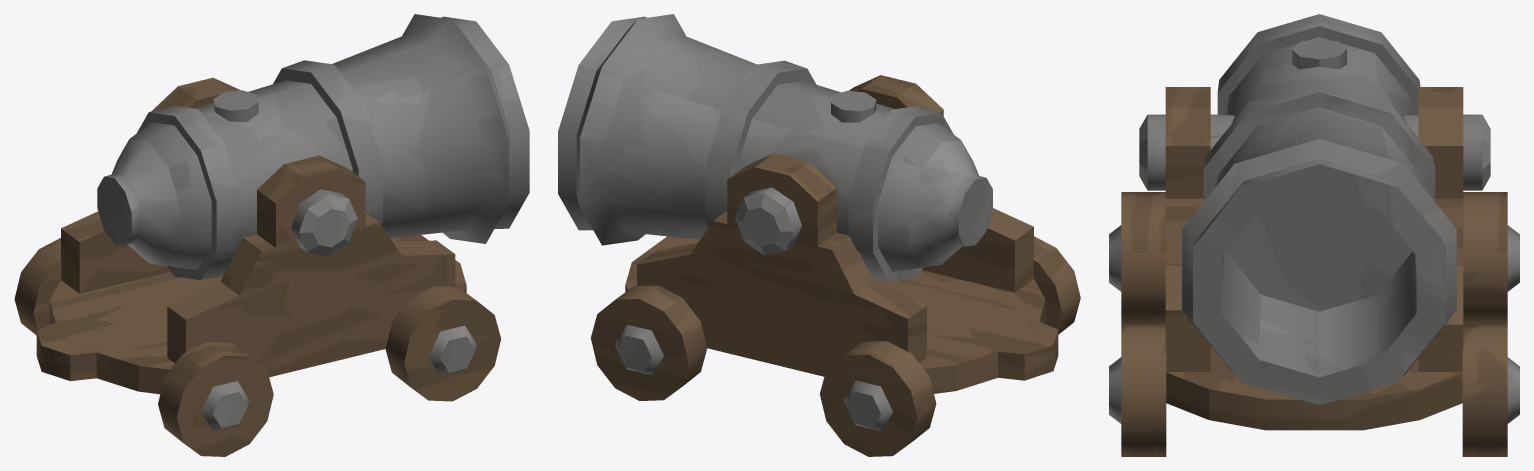
File: MESH_Canon.fbx
3 views of the same model, side by side, from view 1: azimuth 30°, elevation 25°; view 2: azimuth 150°, elevation 25°; view 3: azimuth 270°, elevation 25° (orthographic). The views are drawn at different scales.
Visible parts, largest first — view 1: MESH_BaseCanon, MESH_Canon; view 2: MESH_BaseCanon, MESH_Canon; view 3: MESH_Canon, MESH_BaseCanon.
Part boxes in pixels (x1=…): MESH_BaseCanon: x1=14, y1=77, x2=500, y2=456; MESH_Canon: x1=97, y1=14, x2=529, y2=280; MESH_BaseCanon: x1=591, y1=75, x2=1080, y2=456; MESH_Canon: x1=558, y1=14, x2=992, y2=281; MESH_Canon: x1=1182, y1=14, x2=1456, y2=405; MESH_BaseCanon: x1=1109, y1=87, x2=1519, y2=456.
Bounding box in the file's own units: 496 × 328 × 340.
2 materials, 2 textured.
